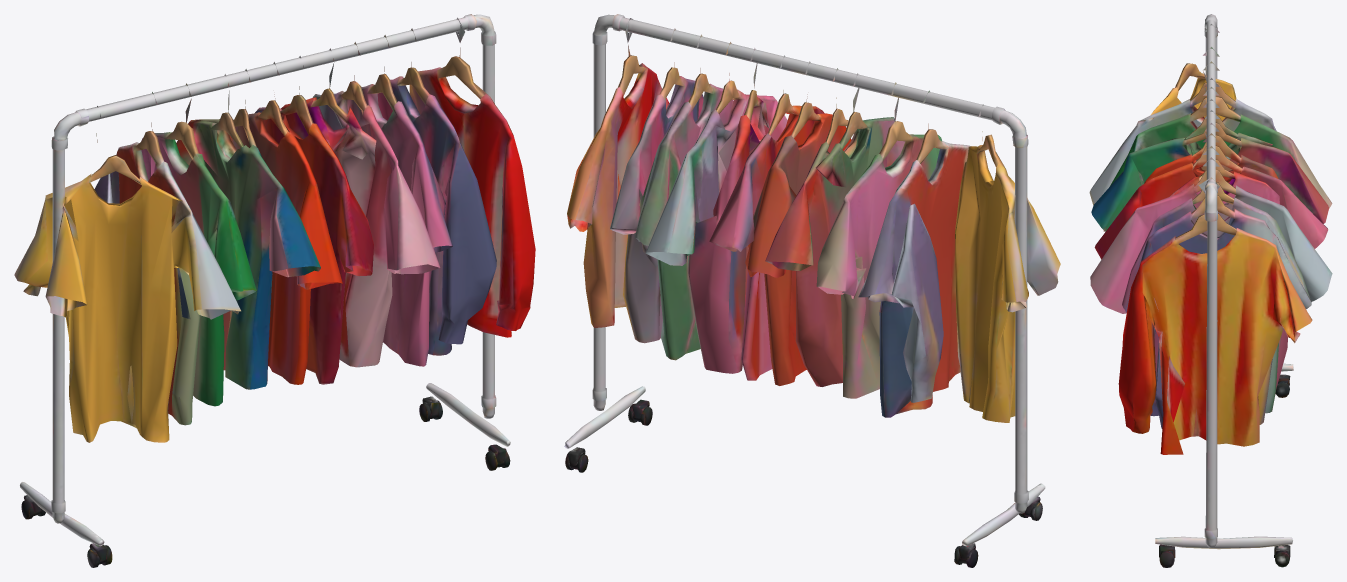
The model's file is clothes_rack.glb.
The picture shows the model from 3 angles, left to right: view 1: azimuth 30°, elevation 25°; view 2: azimuth 150°, elevation 25°; view 3: azimuth 270°, elevation 25°; orthographic projection. The views are drawn at different scales.
Size of the model in its own units: 0.9551 by 0.8638 by 0.498.
1 material, 1 textured.
